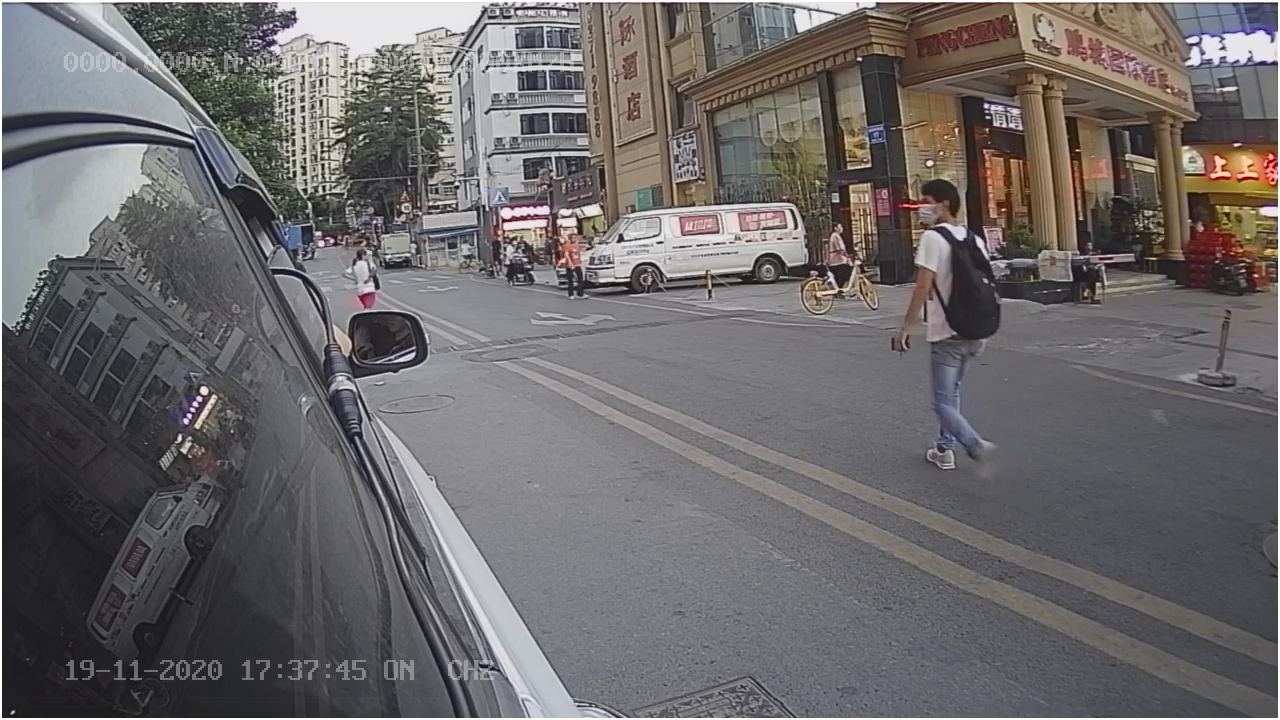person: (901, 175, 990, 458)
